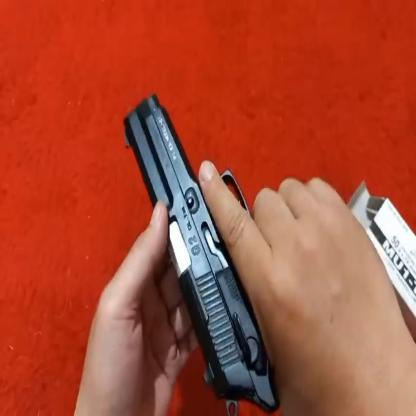handgun: (115, 83, 285, 416)
